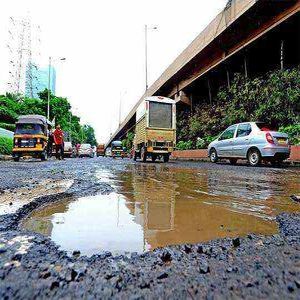pothole: (16, 189, 287, 250)
